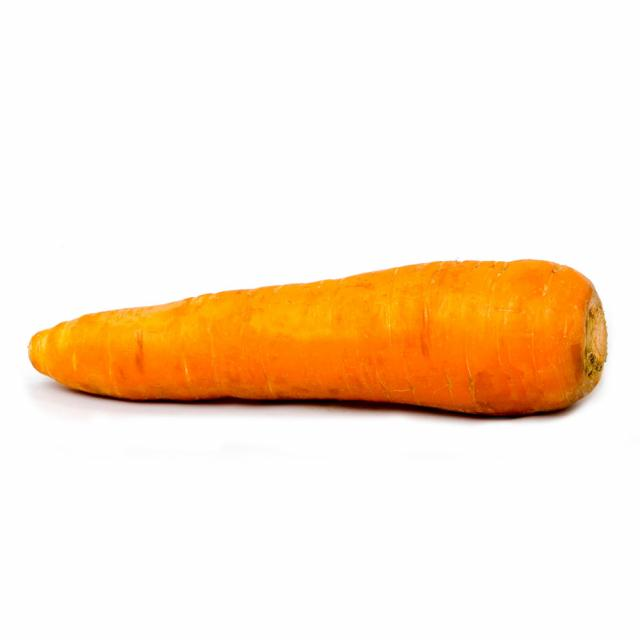Carrot: (30, 258, 613, 421)
